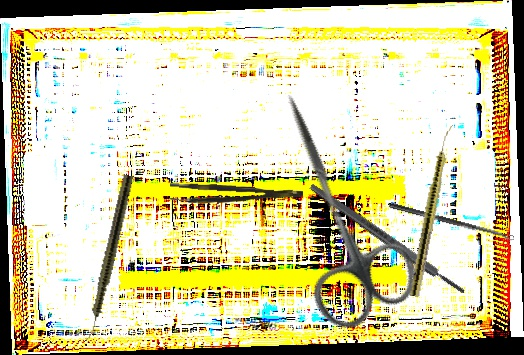Handpiece: (82, 173, 135, 344), (408, 123, 455, 298)
Iris Scissors: (236, 75, 429, 338)
Scalpel Handle: (308, 181, 467, 297)
Surgical Spoon: (388, 202, 515, 242)
Tissue Forceps: (169, 182, 303, 209)
